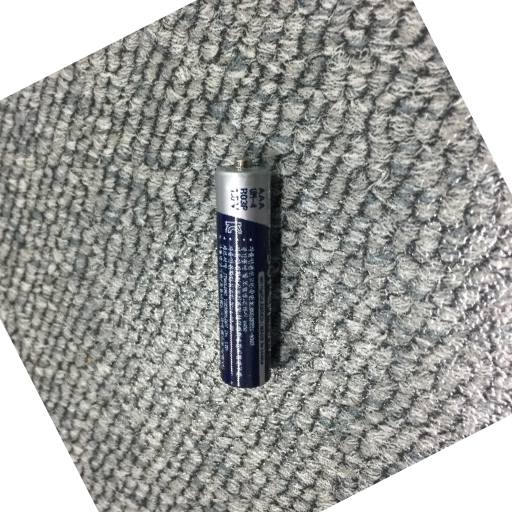Battery_0: (209, 153, 282, 397)
